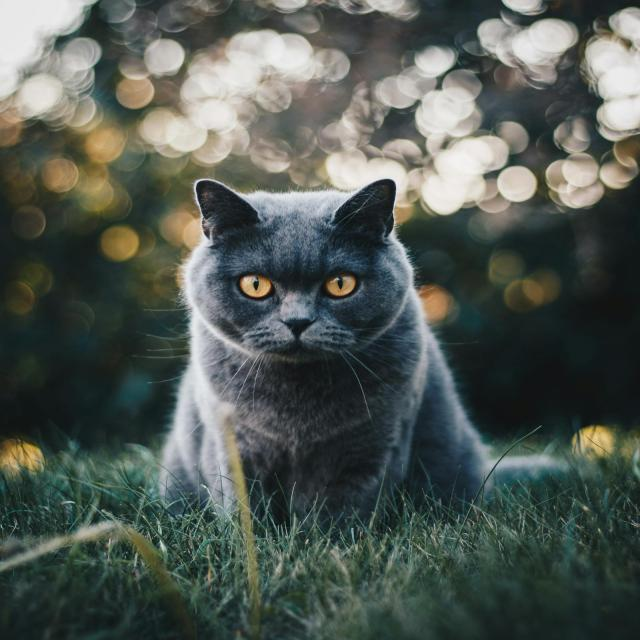Cat: (138, 176, 583, 541)
